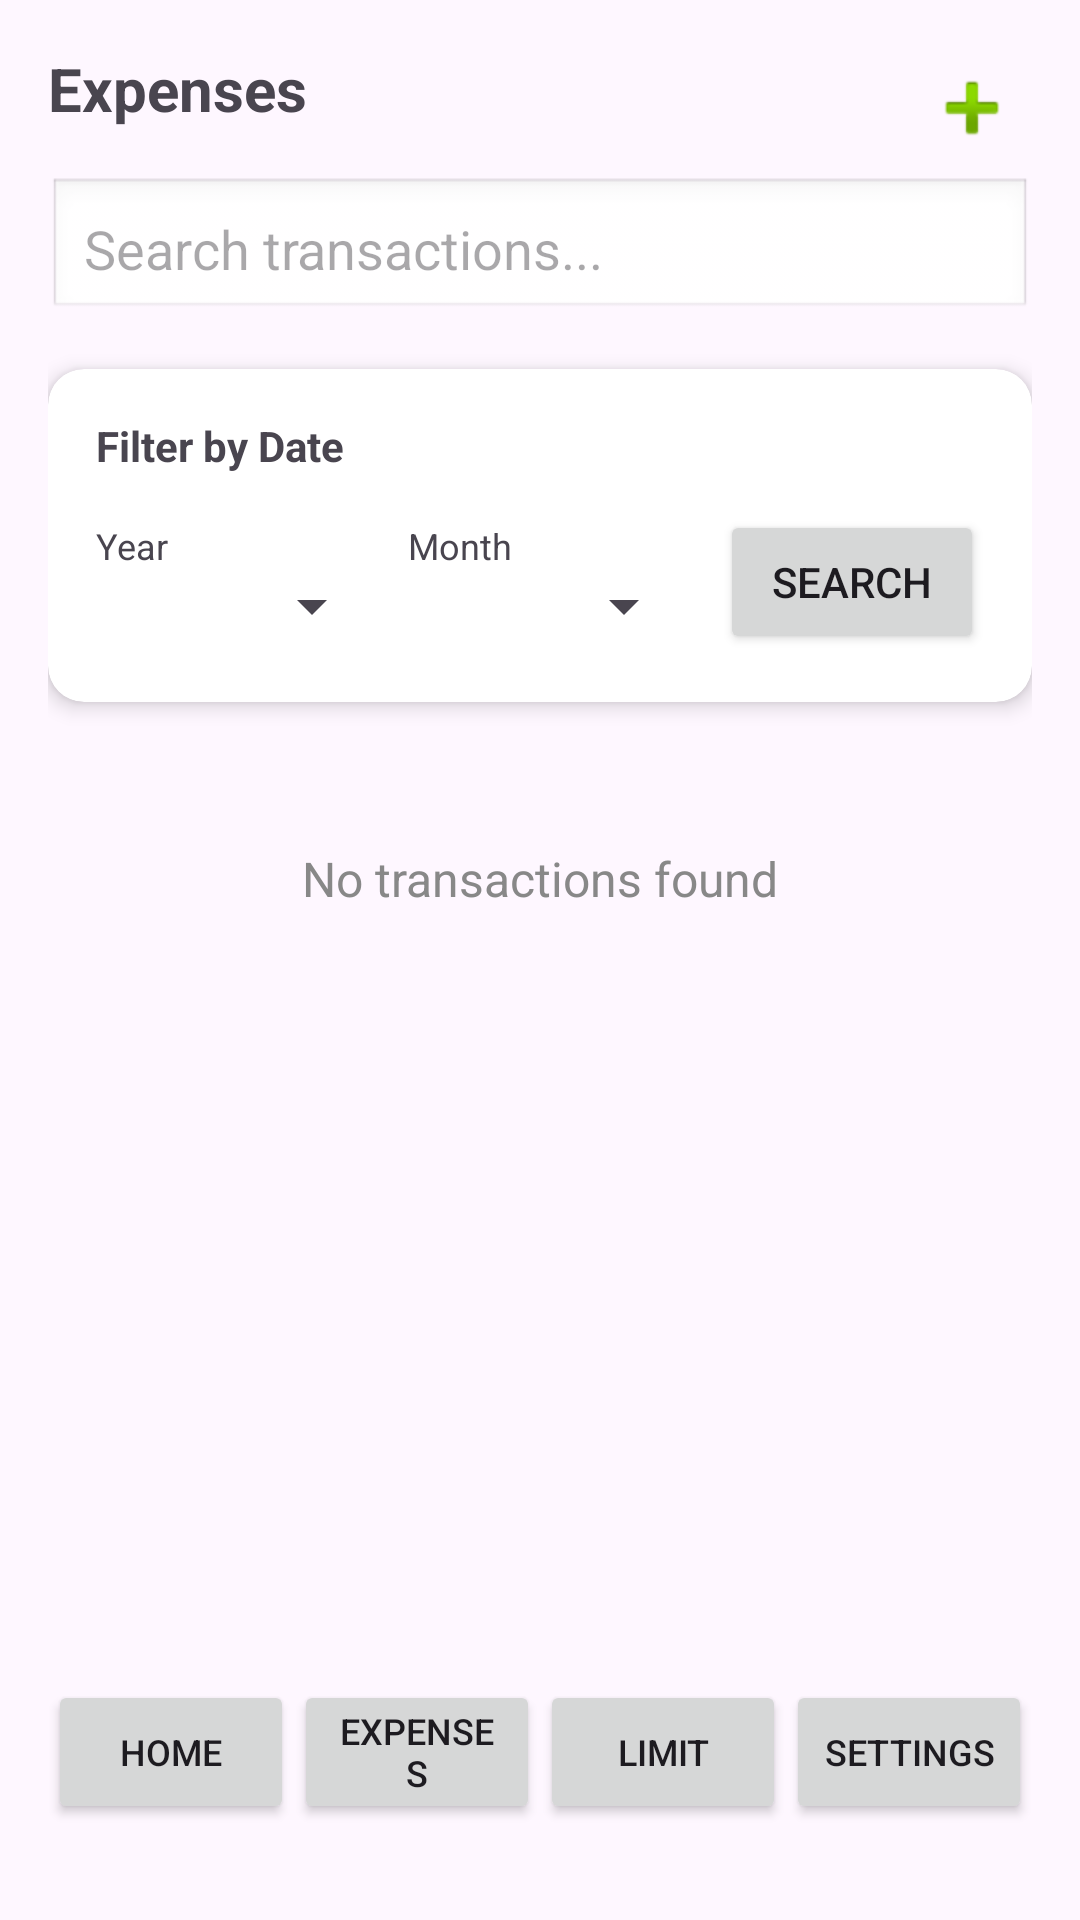

Locate icon controls on the screen. Image size 1080×1920, boxes as (x1, y1, x2, y2).
Add Expense: (945, 81, 999, 135)
